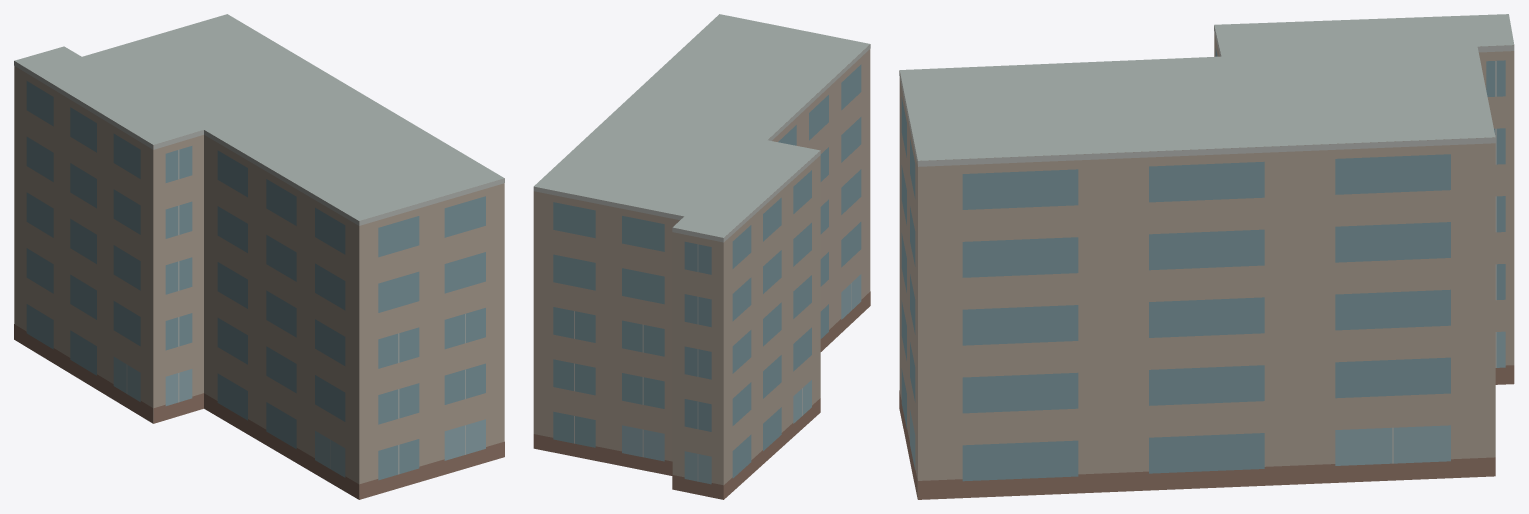
File: survey-upis-32943401.glb
3 views of the same model, side by side, from view 1: azimuth 30°, elevation 25°; view 2: azimuth 150°, elevation 25°; view 3: azimuth 270°, elevation 25° (orthographic). The views are drawn at different scales.
Visible parts, largest first — view 1: survey-upis-32943401.tmp; view 2: survey-upis-32943401.tmp; view 3: survey-upis-32943401.tmp.
Boxes of the visible parts, x1,y1,x2,y2 form: survey-upis-32943401.tmp: [14, 14, 504, 499]; survey-upis-32943401.tmp: [533, 14, 870, 499]; survey-upis-32943401.tmp: [899, 14, 1514, 499].
Size of the model in its own units: 12.88 by 13.85 by 22.77.
